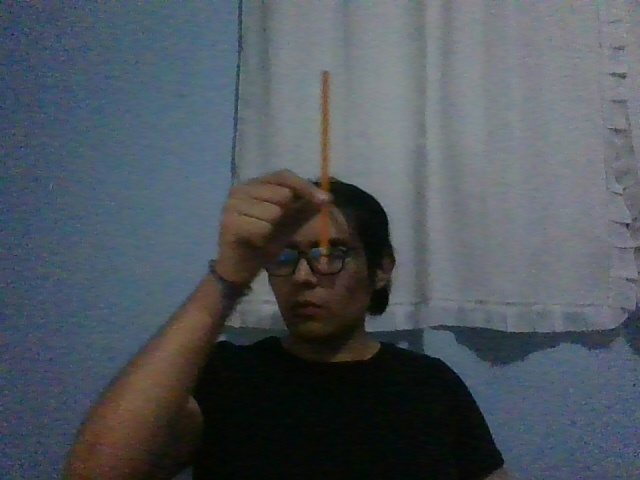lapiz: (319, 71, 330, 272)
